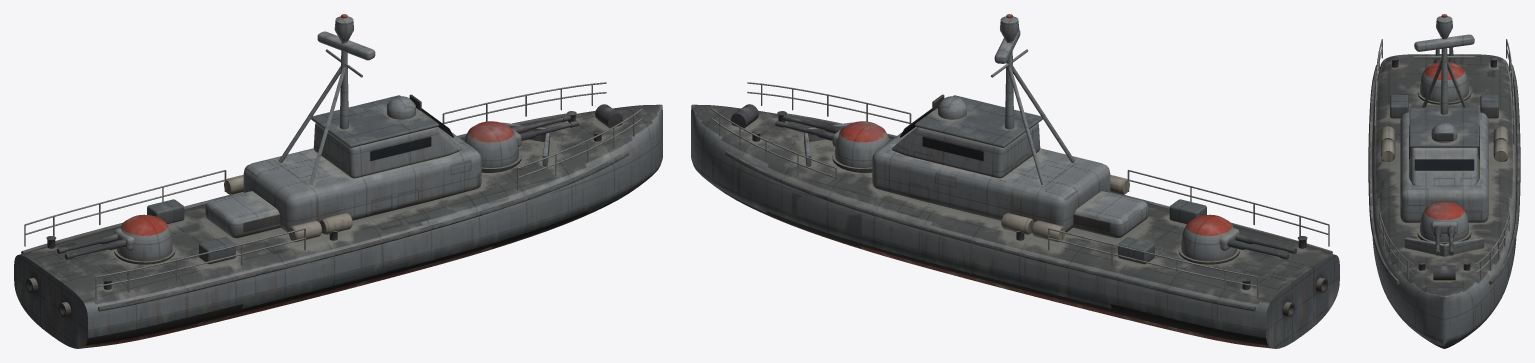
Rendered from fh_battle_e_ship_aa.glb.
3 views of the same model, side by side, from view 1: azimuth 30°, elevation 25°; view 2: azimuth 150°, elevation 25°; view 3: azimuth 270°, elevation 25° (orthographic). The views are drawn at different scales.
Visible parts, largest first — view 1: body; view 2: body; view 3: body.
Boxes of the visible parts, x1,y1,x2,y2 form: body: (14, 14, 662, 348); body: (691, 14, 1339, 348); body: (1368, 14, 1520, 348).
Bounding box in the file's own units: 1 × 0.4044 × 0.245.
2 materials, 2 textured.
